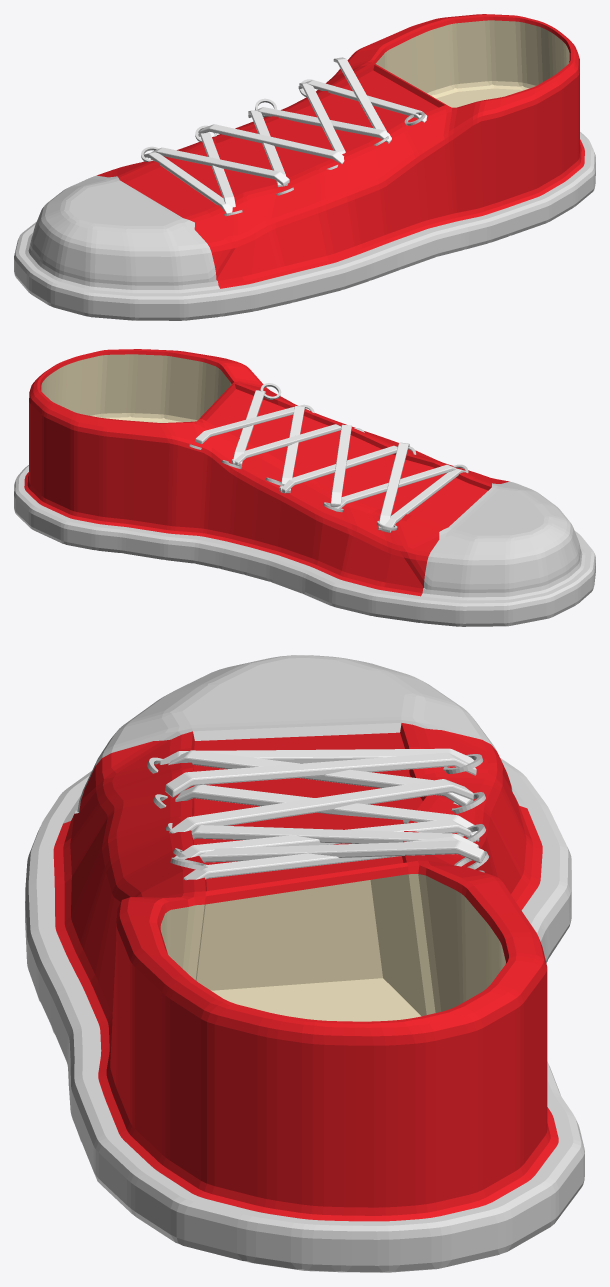
Rendered from shoeL.fbx.
3 renders of one model, top to bottom at view 1: azimuth 30°, elevation 25°; view 2: azimuth 150°, elevation 25°; view 3: azimuth 270°, elevation 25°, orthographic. The views are drawn at different scales.
Visible parts, largest first — view 1: Cube.022; view 2: Cube.022; view 3: Cube.022.
Part boxes in pixels (x1,y1,x2,y2): Cube.022: (14, 14, 595, 320); Cube.022: (14, 349, 595, 626); Cube.022: (25, 655, 584, 1272).
Size of the model in its own units: 1254 by 266 by 568.
